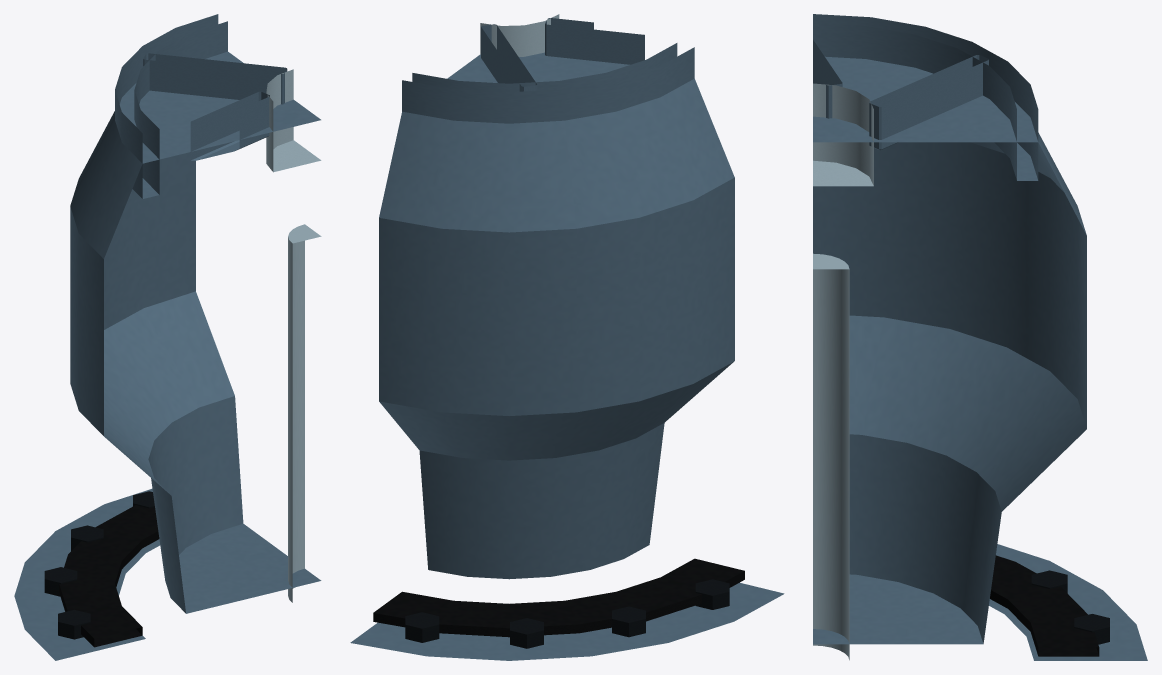
The model's file is cell_12.obj.
3 views of the same model, side by side, from view 1: azimuth 30°, elevation 25°; view 2: azimuth 150°, elevation 25°; view 3: azimuth 270°, elevation 25° (orthographic). The views are drawn at different scales.
Parts seen in each view (by area): view 1: cell_12; view 2: cell_12; view 3: cell_12.
Boxes of the visible parts, x1,y1,x2,y2 form: cell_12: [14, 14, 321, 660]; cell_12: [350, 14, 784, 660]; cell_12: [813, 14, 1147, 660].
Bounding box in the file's own units: 0.55 × 1 × 0.55.
